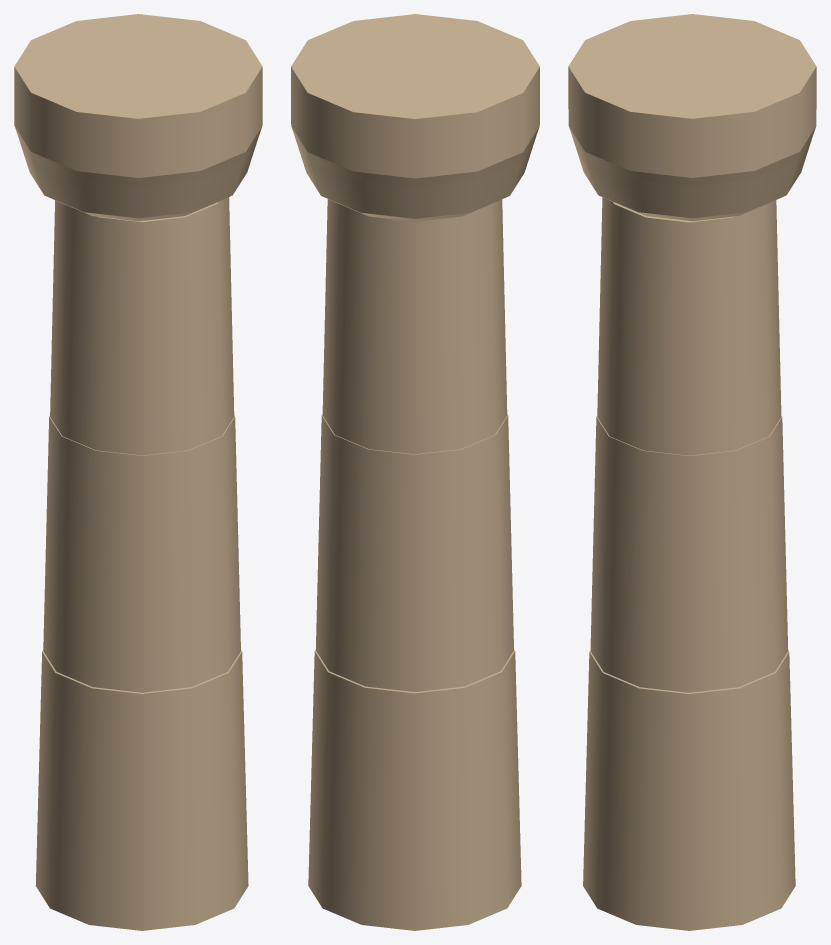
The model's file is egypt_column.fbx.
3 views of the same model, side by side, from view 1: azimuth 30°, elevation 25°; view 2: azimuth 150°, elevation 25°; view 3: azimuth 270°, elevation 25° (orthographic).
Parts seen in each view (by area): view 1: pCylinder13, pCylinder14, pCylinder23, pCylinder15; view 2: pCylinder13, pCylinder14, pCylinder23, pCylinder15; view 3: pCylinder13, pCylinder14, pCylinder23, pCylinder15.
Part boxes in pixels (left/top/right/bottom): pCylinder13: left=35, top=650, right=248, bottom=930; pCylinder14: left=43, top=416, right=240, bottom=692; pCylinder23: left=14, top=14, right=262, bottom=221; pCylinder15: left=50, top=197, right=234, bottom=455; pCylinder13: left=308, top=649, right=521, bottom=930; pCylinder14: left=316, top=414, right=513, bottom=691; pCylinder23: left=291, top=14, right=539, bottom=221; pCylinder15: left=322, top=199, right=507, bottom=454; pCylinder13: left=583, top=650, right=795, bottom=930; pCylinder14: left=590, top=416, right=788, bottom=692; pCylinder23: left=568, top=14, right=816, bottom=221; pCylinder15: left=597, top=197, right=781, bottom=455.
Size of the model in its own units: 1.32 by 4.81 by 1.32.
